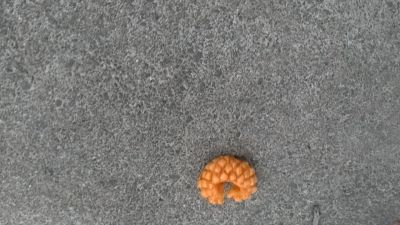eggs: (195, 155, 259, 206)
